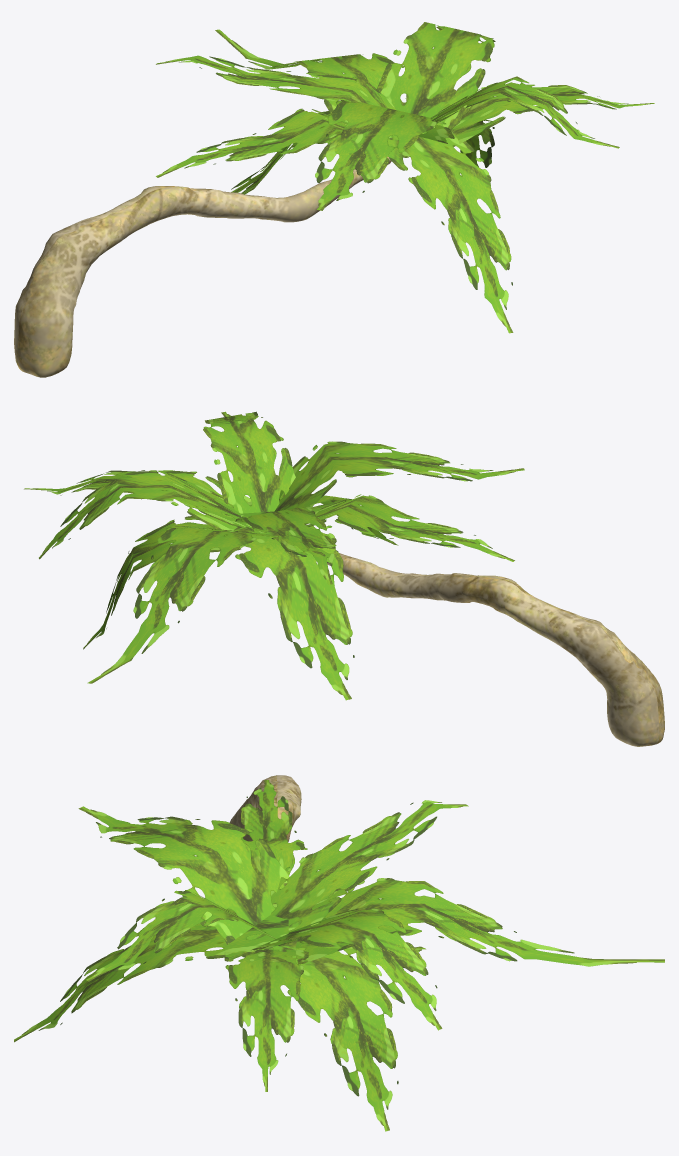
Rendered from CoqueiroDeitado.fbx.
3 renders of one model, top to bottom at view 1: azimuth 30°, elevation 25°; view 2: azimuth 150°, elevation 25°; view 3: azimuth 270°, elevation 25°, orthographic. The views are drawn at different scales.
Parts seen in each view (by area): view 1: FolhaCoqueiroCurvoDetalhadoLOD0, CoqueiroCurvoDetalhadoLOD0; view 2: FolhaCoqueiroCurvoDetalhadoLOD0, CoqueiroCurvoDetalhadoLOD0; view 3: FolhaCoqueiroCurvoDetalhadoLOD0, CoqueiroCurvoDetalhadoLOD0.
Part boxes in pixels (x1,y1,x2,y2): FolhaCoqueiroCurvoDetalhadoLOD0: (156,22,654,333); CoqueiroCurvoDetalhadoLOD0: (14,156,391,377); FolhaCoqueiroCurvoDetalhadoLOD0: (24,411,524,700); CoqueiroCurvoDetalhadoLOD0: (327,553,664,746); FolhaCoqueiroCurvoDetalhadoLOD0: (14,780,664,1131); CoqueiroCurvoDetalhadoLOD0: (229,775,301,849).
Size of the model in its own units: 657 by 196 by 538.
